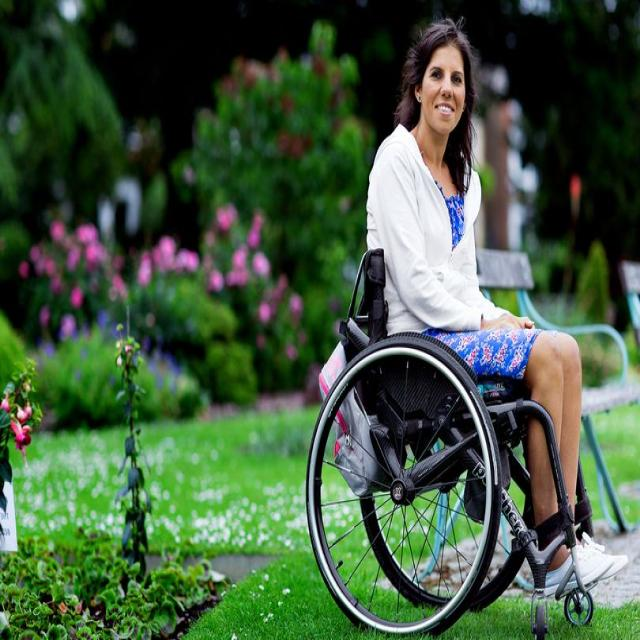wheelchairs: (263, 187, 629, 639)
